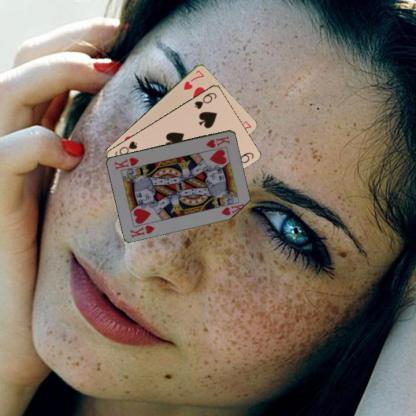6s: (192, 90, 218, 110)
7h: (181, 67, 205, 91)
Kh: (203, 133, 231, 149), (128, 222, 156, 238)
